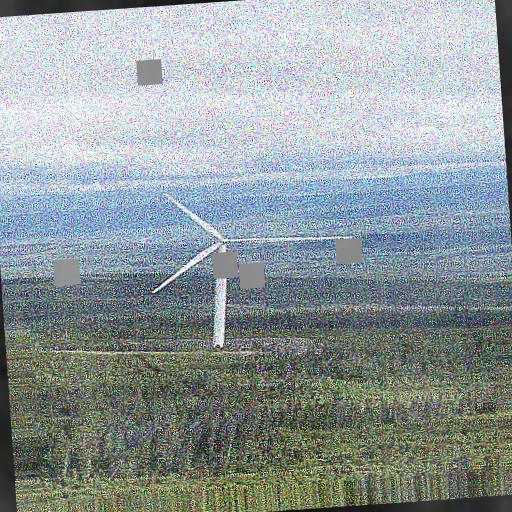wind turbine: (151, 191, 355, 345)
